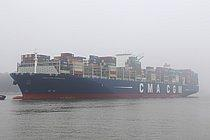Ship: (5, 47, 203, 104)
